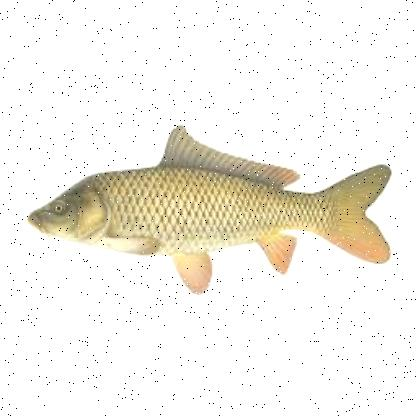ikan-pacu: (24, 150, 394, 276)
